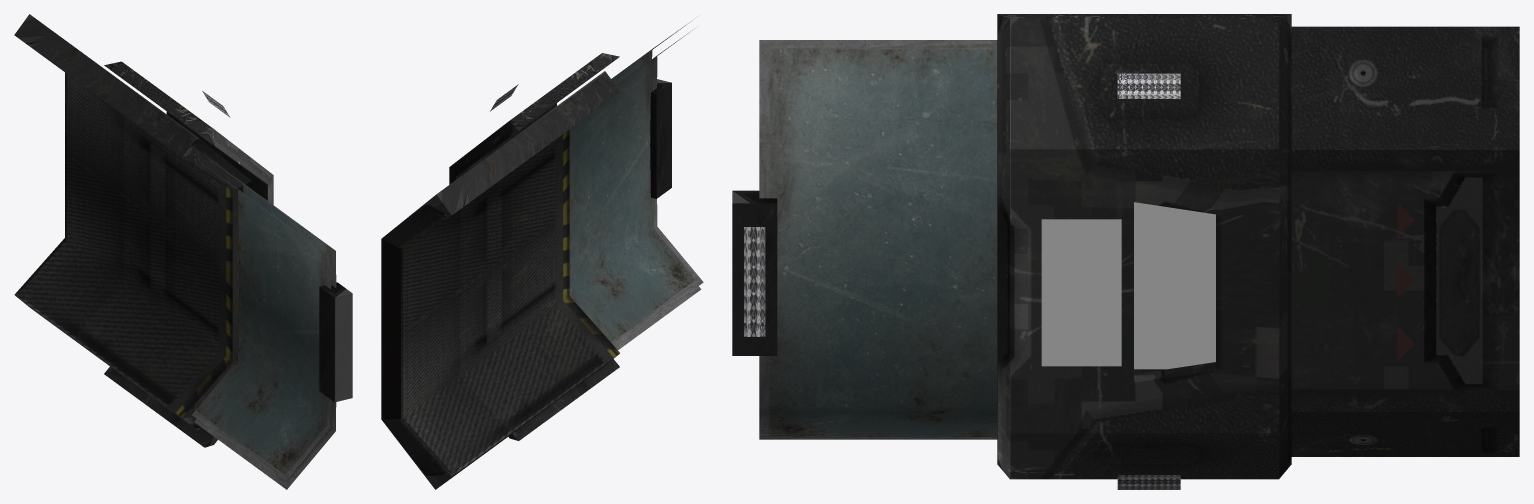
File: t6_wpn_shield_carry_world_LOD2.obj
3 views of the same model, side by side, from view 1: azimuth 30°, elevation 25°; view 2: azimuth 150°, elevation 25°; view 3: azimuth 270°, elevation 25° (orthographic). The views are drawn at different scales.
Visible parts, largest first — view 1: mtl_t6_wpn_shield, mtl_t6_wpn_shield_glass, mtl_t6_wpn_shield_camo1, mtl_t6_wpn_shield_nodecal; view 2: mtl_t6_wpn_shield, mtl_t6_wpn_shield_glass, mtl_t6_wpn_shield_camo1, mtl_t6_wpn_shield_nodecal; view 3: mtl_t6_wpn_shield_camo1, mtl_t6_wpn_shield_glass, mtl_t6_wpn_shield_camo2, mtl_player_icon_world, mtl_clan_tag_world, mtl_t6_wpn_shield.
Boxes of the visible parts, <box> form: mtl_t6_wpn_shield: <box>14,72,352,417</box>; mtl_t6_wpn_shield_glass: <box>192,155,336,489</box>; mtl_t6_wpn_shield_camo1: <box>14,14,273,447</box>; mtl_t6_wpn_shield_nodecal: <box>104,111,267,447</box>; mtl_t6_wpn_shield: <box>401,79,671,476</box>; mtl_t6_wpn_shield_glass: <box>569,20,703,349</box>; mtl_t6_wpn_shield_camo1: <box>381,53,619,489</box>; mtl_t6_wpn_shield_nodecal: <box>455,103,619,440</box>; mtl_t6_wpn_shield_camo1: <box>997,14,1519,478</box>; mtl_t6_wpn_shield_glass: <box>759,40,997,439</box>; mtl_t6_wpn_shield_camo2: <box>1010,18,1519,479</box>; mtl_player_icon_world: <box>1134,202,1215,369</box>; mtl_clan_tag_world: <box>1041,219,1121,366</box>; mtl_t6_wpn_shield: <box>732,73,1180,489</box>.
Bounding box in the file's own units: 25.09 × 87.16 × 135.
